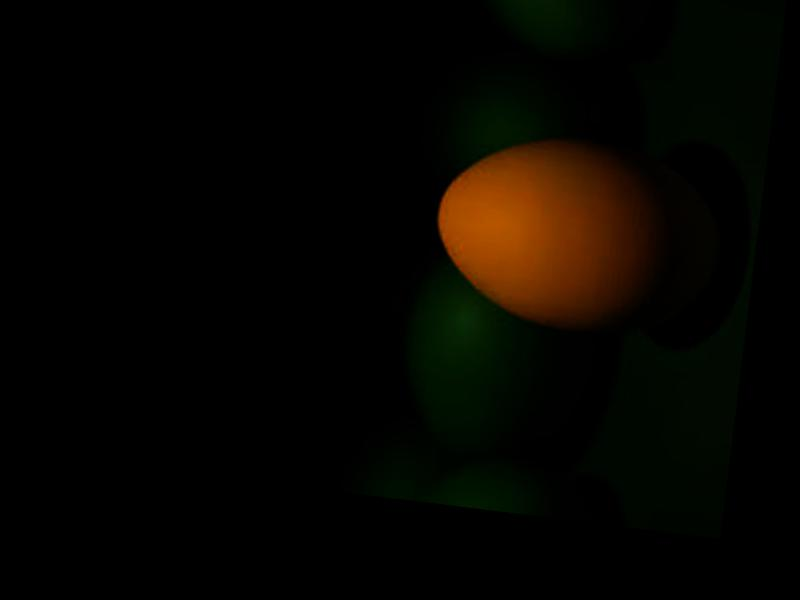Eggs: (426, 121, 732, 348)
